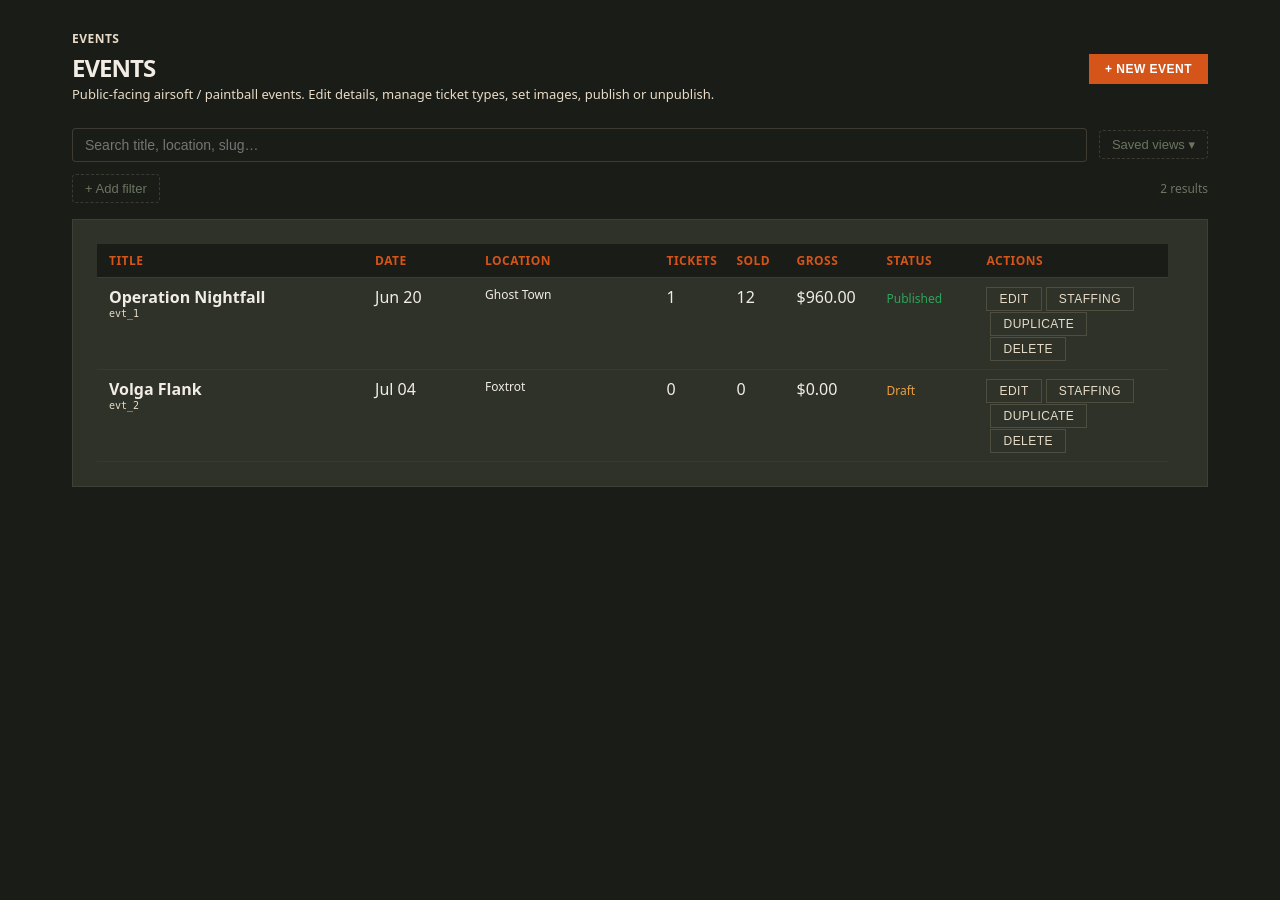
it: AdminEvents › opens the editor for an existing event via the detail endpoint
Click the button "Edit" in the row of "Operation Nightfall": [1014, 299] box [986,287,1042,311]
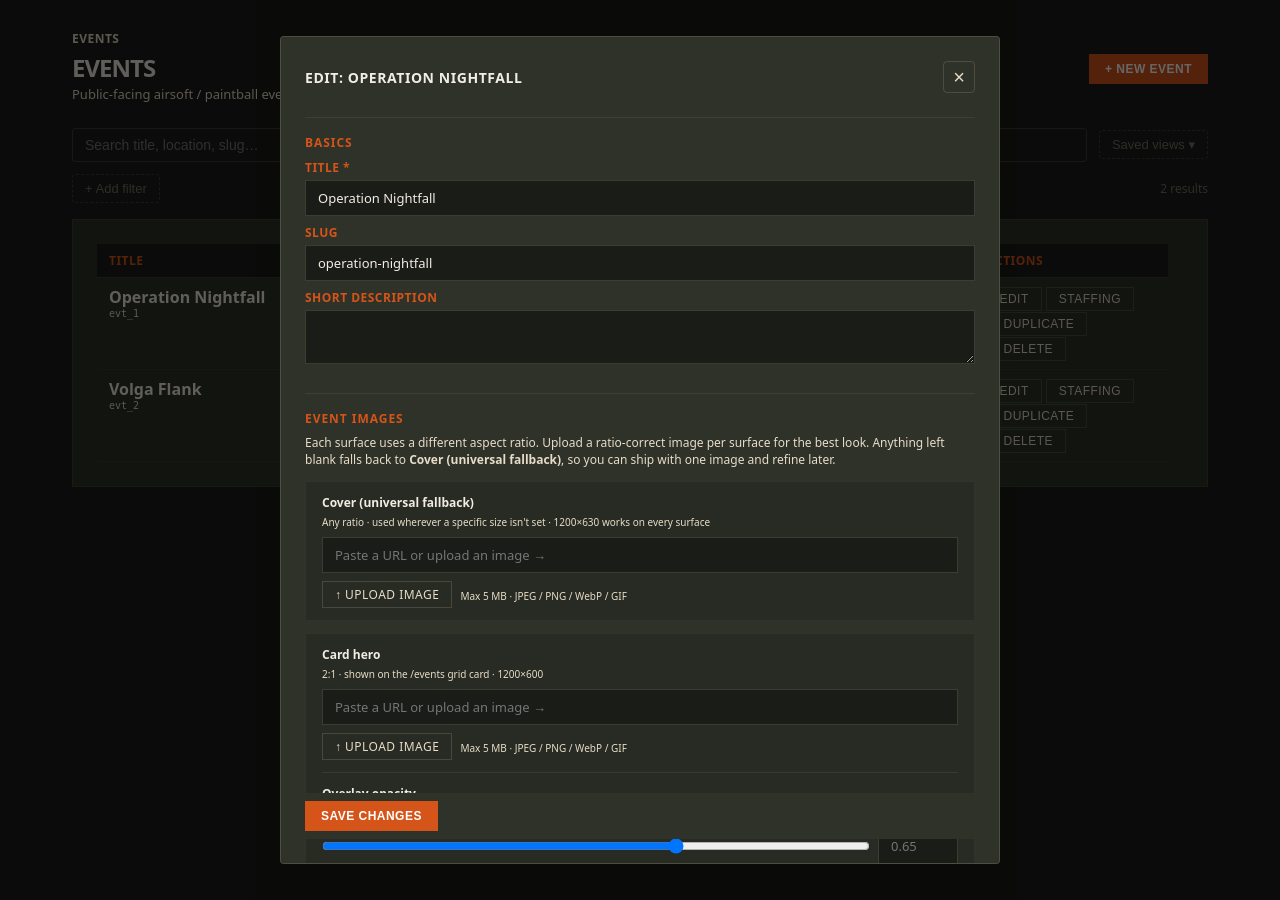
expect the heading "Edit: Operation Nightfall" is shown: met, box [305,68,522,86]
